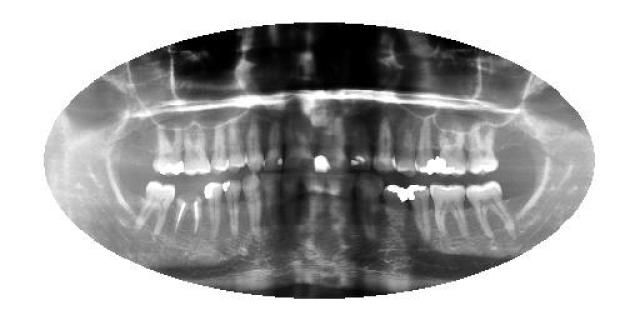Cavity: (171, 188, 204, 238)
Fillings: (433, 124, 468, 178), (154, 124, 185, 175), (407, 185, 435, 240), (382, 184, 408, 242), (204, 181, 225, 239), (415, 119, 434, 175)
